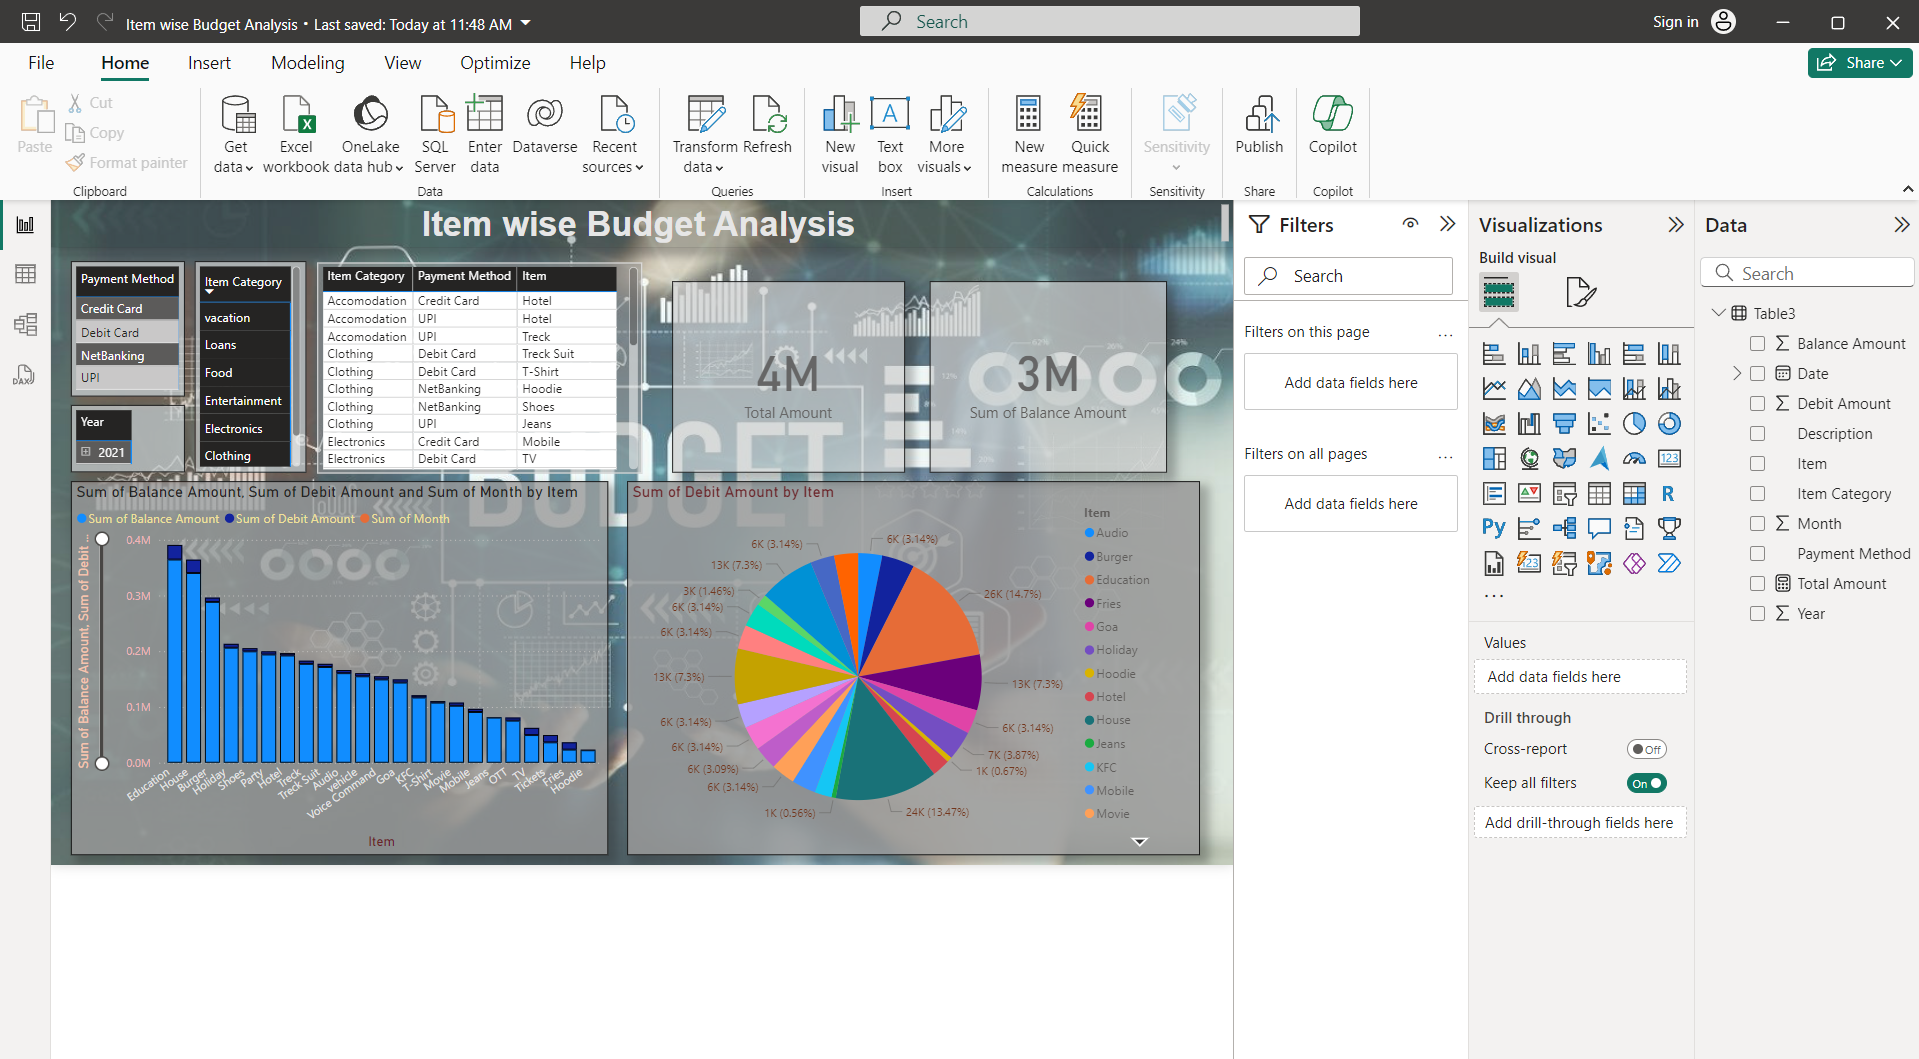

Layout of this report page (visuals, bound fields, positions):
{"tool":"powerbi","page":{"name":"Page 1","canvas":[1280,720],"ordinal":0},"visuals":[{"type":"textbox","box":[0,0,1280.3,51.4],"z":0},{"type":"pivotTable","fields":{"Rows":["Table3.Payment Method"]},"box":[21.7,66.3,123.2,146.2],"z":1000},{"type":"pivotTable","fields":{"Rows":["Table3.Item Category"]},"box":[155.6,66.3,120.4,228.7],"z":2000},{"type":"columnChart","fields":{"Y":["Sum(Table3.Balance Amount)","Sum(Table3.Debit Amount)","Sum(Table3.Month)"],"Category":["Table3.Item"]},"box":[21.7,304.5,581.9,404.7],"z":3000},{"type":"pieChart","fields":{"Y":["Sum(Table3.Debit Amount)"],"Series":["Table3.Item"]},"box":[623.9,304.5,619.8,404.7],"z":4000},{"type":"card","fields":{"Values":["Sum(Table3.Balance Amount)"]},"box":[951.4,88,257.1,207.1],"z":5000},{"type":"card","fields":{"Values":["Sum(Table3.Debit Amount)"]},"box":[672.6,88,251.7,207.1],"z":6000},{"type":"pivotTable","fields":{"Rows":["Table3.Date.Variation.Date Hierarchy.Year","Table3.Date.Variation.Date Hierarchy.Quarter","Table3.Date.Variation.Date Hierarchy.Month","Table3.Date.Variation.Date Hierarchy.Day"]},"box":[21.7,222,123.2,73.1],"z":7000},{"type":"tableEx","fields":{"Values":["Table3.Item Category","Table3.Payment Method","Table3.Item"]},"box":[288.3,67.7,351.9,228.7],"z":7001}]}

Visuals, with their boxes on the page's 1280x720 design canvas (x1, y1, x2, y2). These are canvas units, not pixel positions in the 1919x1059 screenshot, which may show the page scaled, cropped or inside an application window:
textbox: region(0, 0, 1280, 51)
pivotTable - Table3.Payment Method: region(22, 66, 145, 212)
pivotTable - Table3.Item Category: region(156, 66, 276, 295)
columnChart - Sum(Table3.Balance Amount) x Sum(Table3.Debit Amount): region(22, 304, 604, 709)
pieChart - Sum(Table3.Debit Amount) x Table3.Item: region(624, 304, 1244, 709)
card - Sum(Table3.Balance Amount): region(951, 88, 1208, 295)
card - Sum(Table3.Debit Amount): region(673, 88, 924, 295)
pivotTable - Table3.Date.Variation.Date Hierarchy.Year x Table3.Date.Variation.Date Hierarchy.Quarter: region(22, 222, 145, 295)
tableEx - Table3.Item Category x Table3.Payment Method: region(288, 68, 640, 296)
